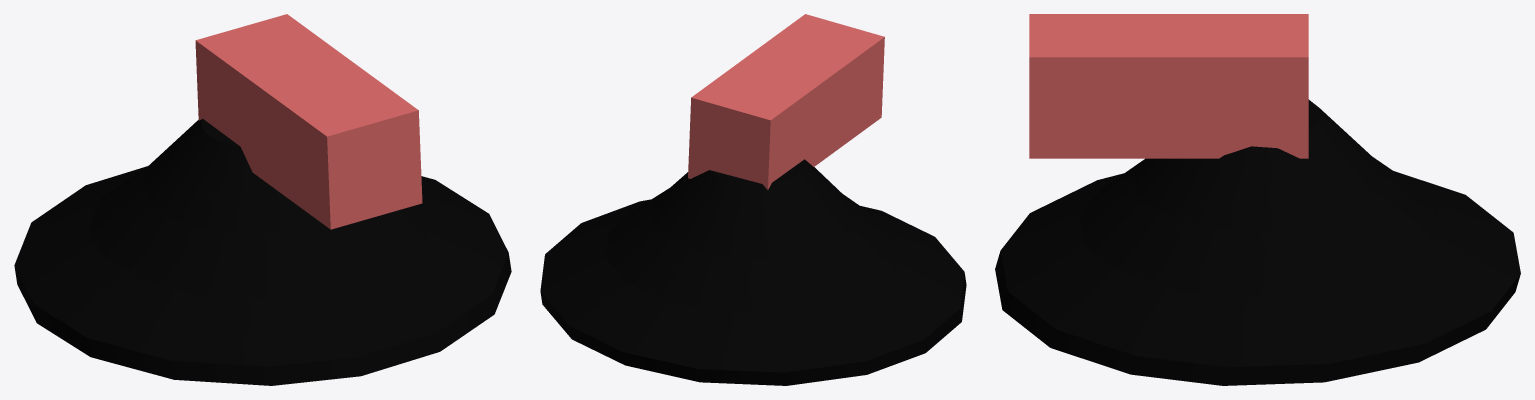
File: Microwave2.glb
3 renders of one model, left to right at view 1: azimuth 30°, elevation 25°; view 2: azimuth 150°, elevation 25°; view 3: azimuth 270°, elevation 25°, orthographic. The views are drawn at different scales.
Size of the model in its own units: 0.2537 by 0.1361 by 0.2562.
